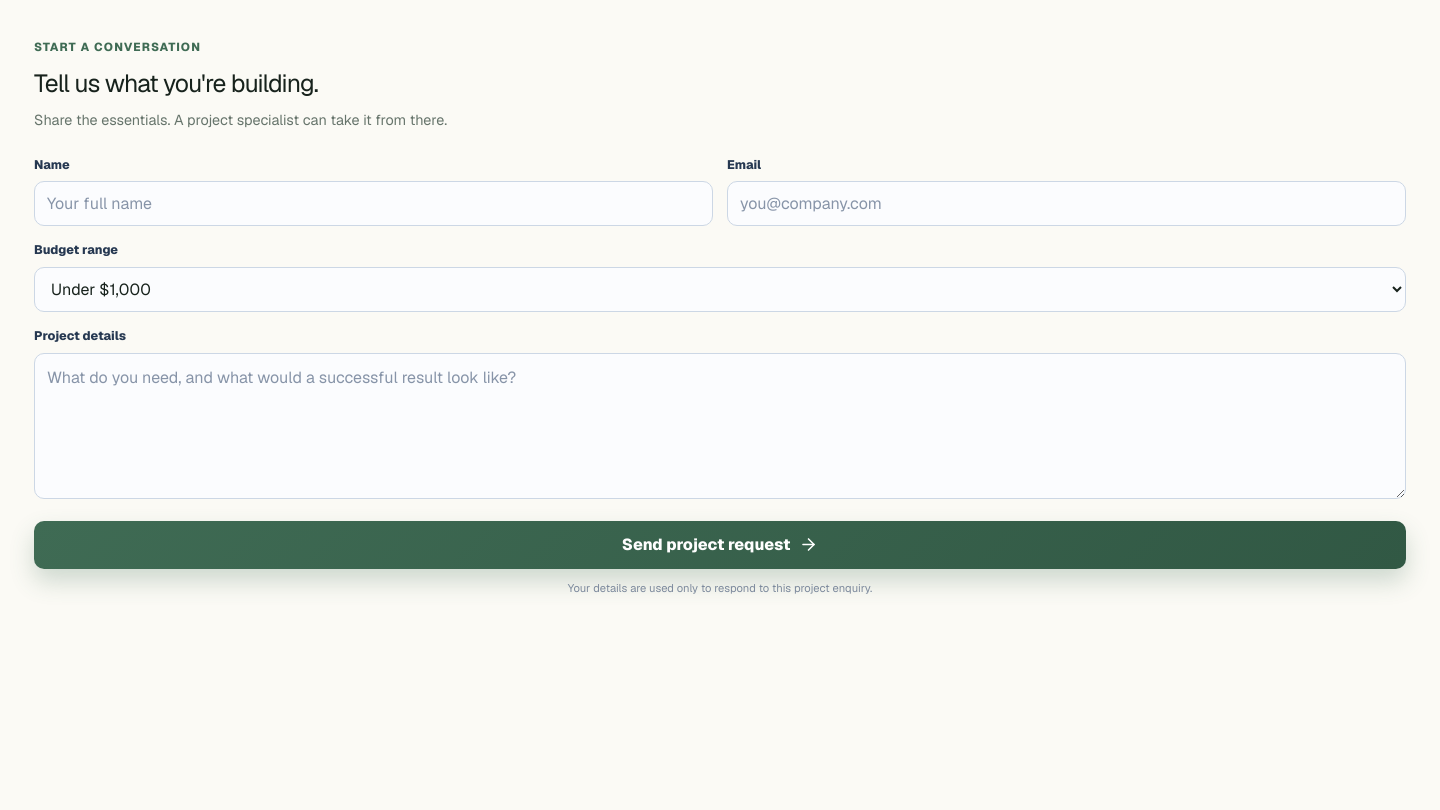
Test: LeadForm › submits valid data and clears the form after success
Type "Mousumi Swain" into the field labelled "Name". click: (374,204)
box: [34,181,713,226]
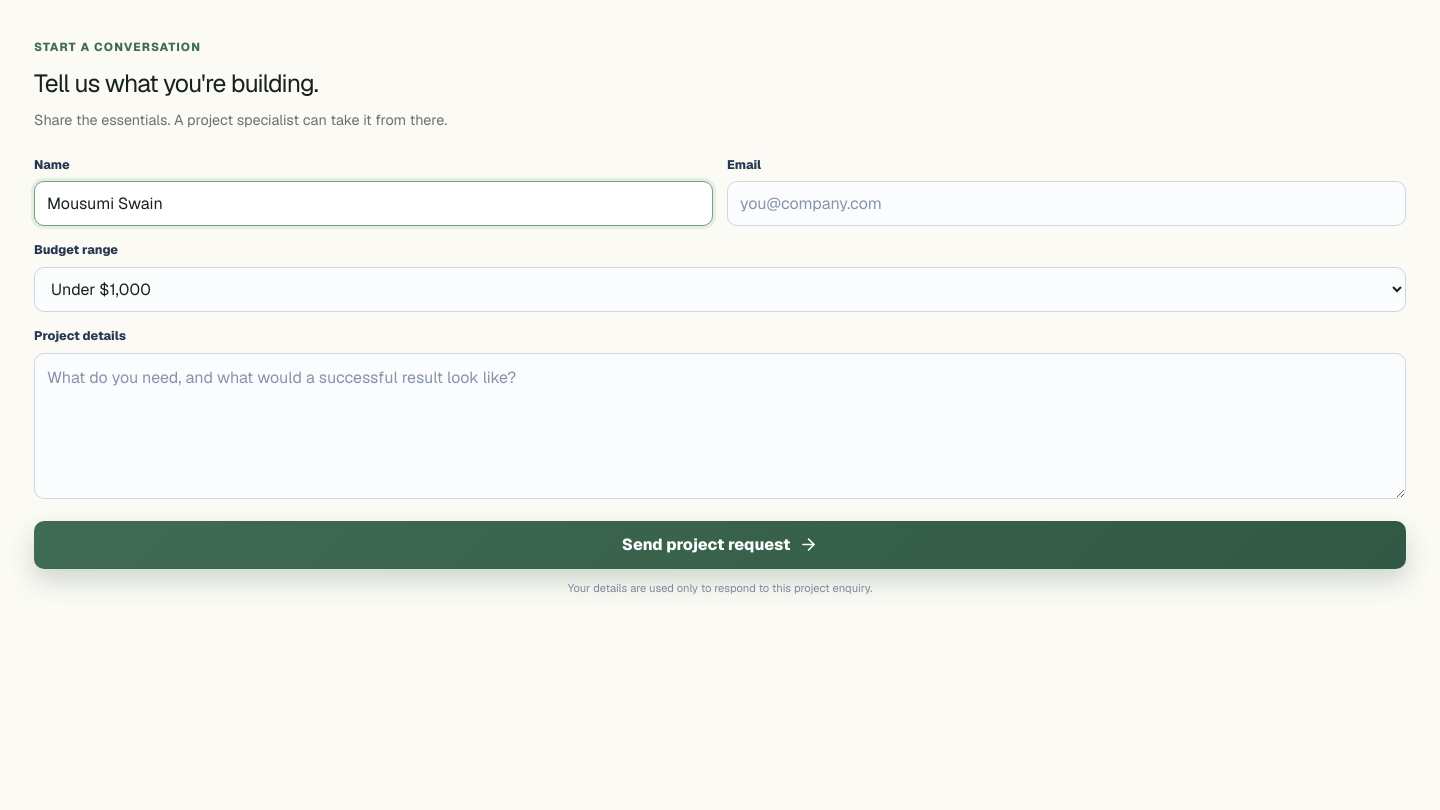
Type "mousumi@example.com" into the field labelled "Email". click: (1066,204)
box: [727,181,1406,226]
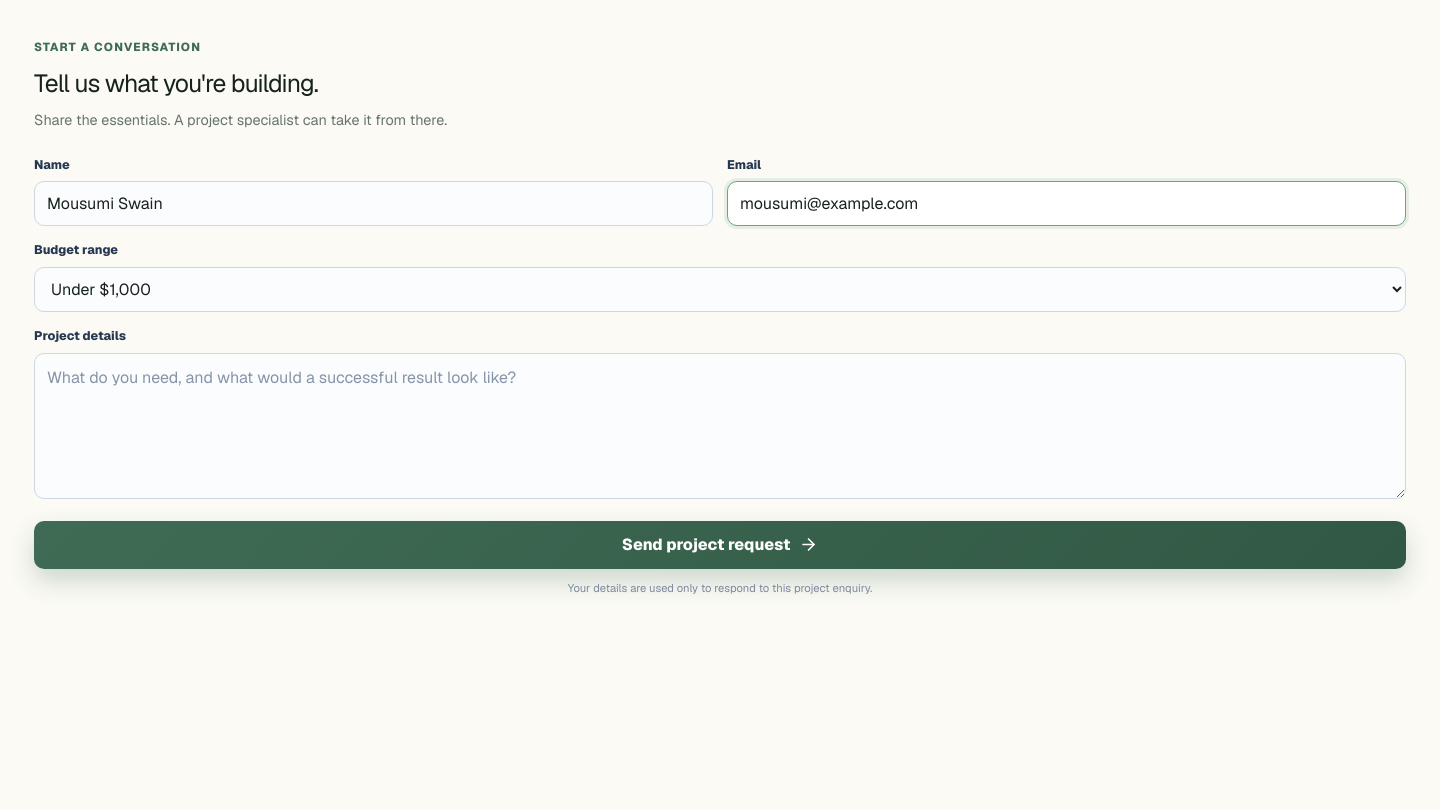
Select "$1,000 - $5,000" in the dropdown labelled "Budget range". click: (720,290)
box: [34,267,1406,312]
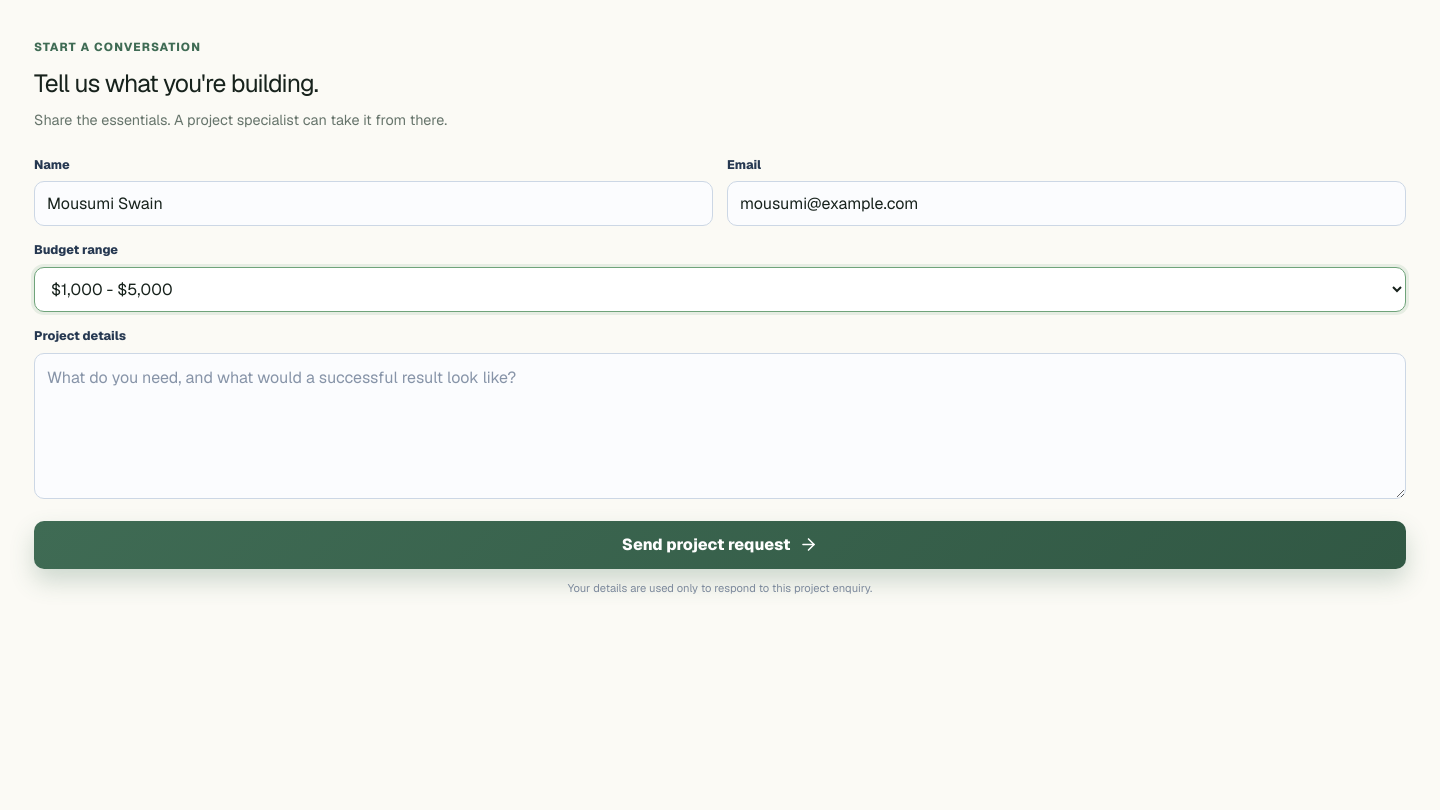
Type "I need a responsive Shopify storefront for my clothing brand." into the text box labelled "Project details". click: (720,426)
box: [34,353,1406,499]
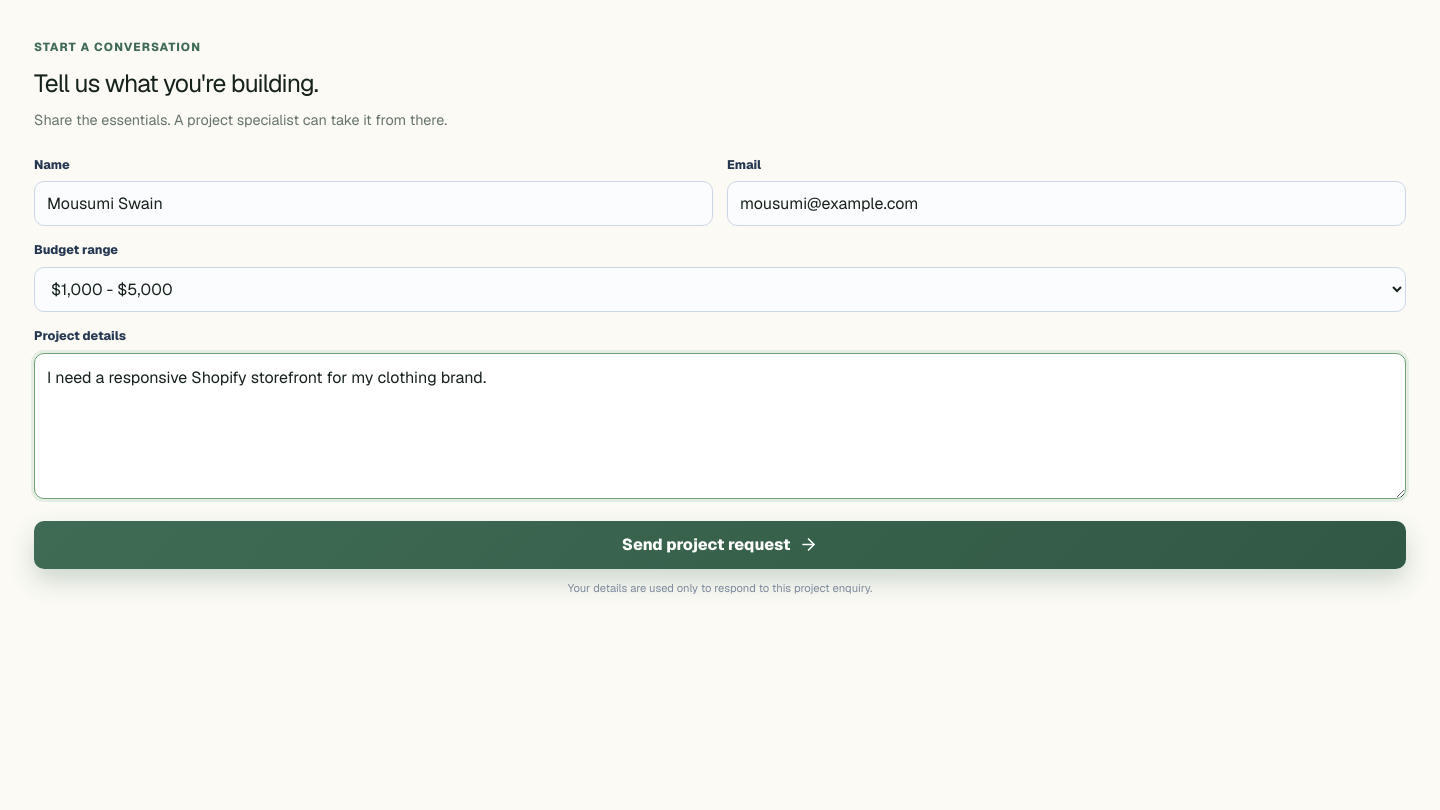
Click the button "Send project request". click: (720,545)
box: [34,521,1406,569]
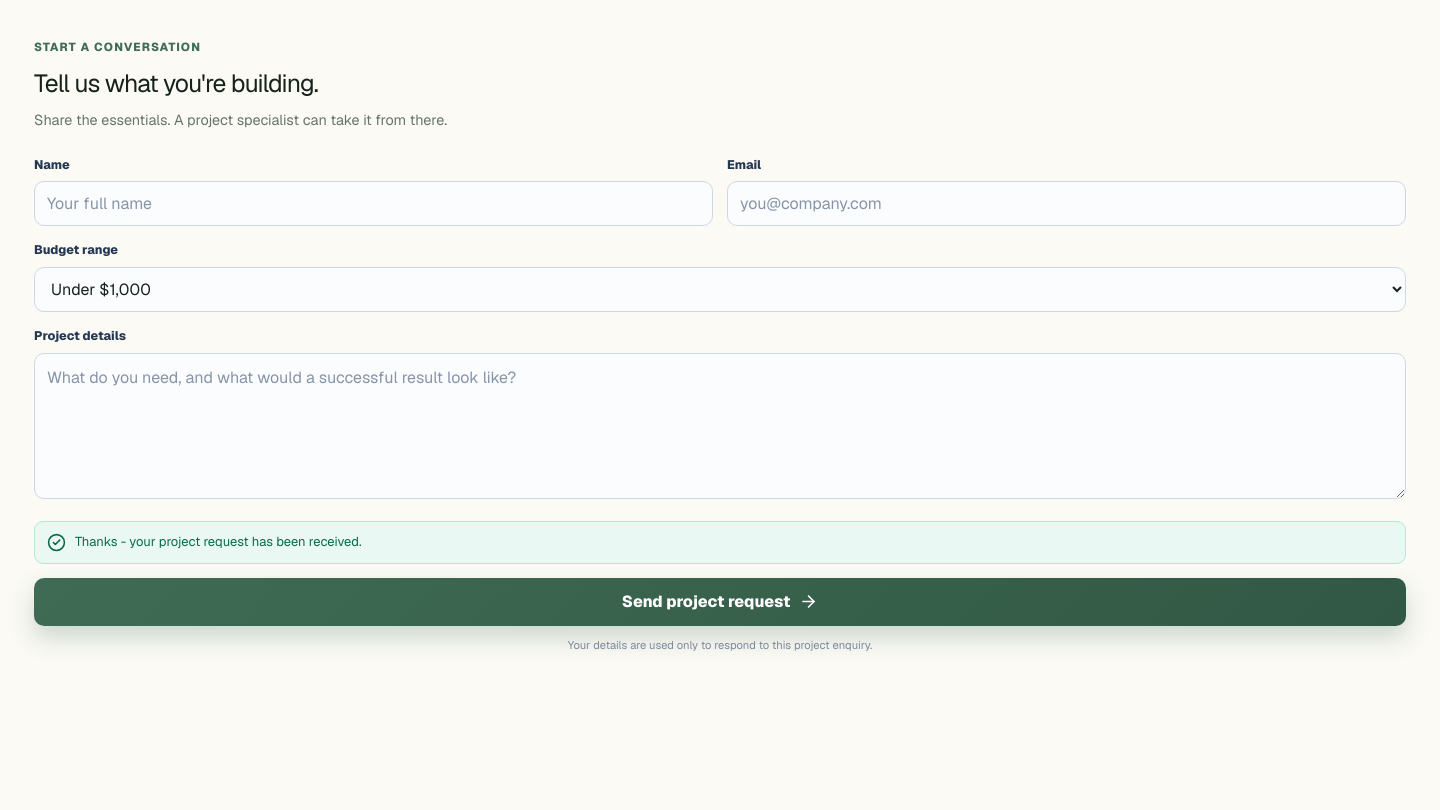
expect the text "Thanks - your project request has been received." is shown: met, box [75,533,362,551]
expect the field labelled "Name" is empty: met, box [34,181,713,226]
